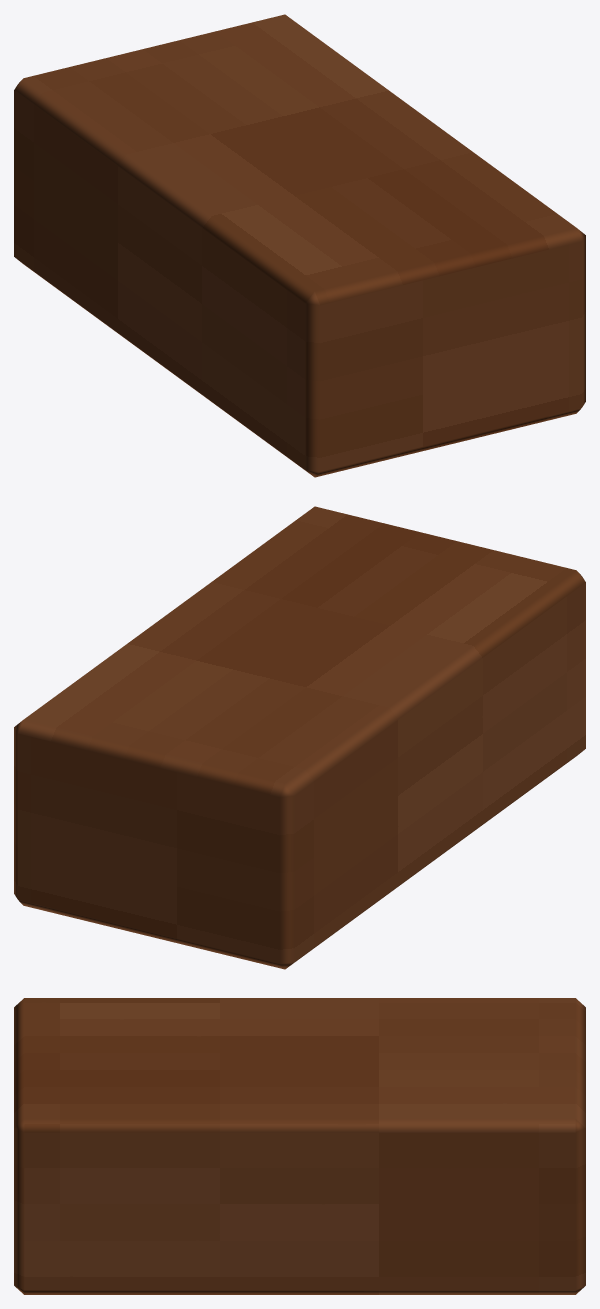
File: Log-right.glb
3 views of the same model, one above another, from view 1: azimuth 30°, elevation 25°; view 2: azimuth 150°, elevation 25°; view 3: azimuth 270°, elevation 25° (orthographic). The views are drawn at different scales.
Visible parts, largest first — view 1: Log-right; view 2: Log-right; view 3: Log-right.
Boxes of the visible parts, x1,y1,x2,y2 form: Log-right: (14,14,585,477); Log-right: (14,506,585,969); Log-right: (14,998,585,1294).
Bounding box in the file's own units: 0.15 × 0.095 × 0.28.
Materials: 1 (1 with a texture image).
